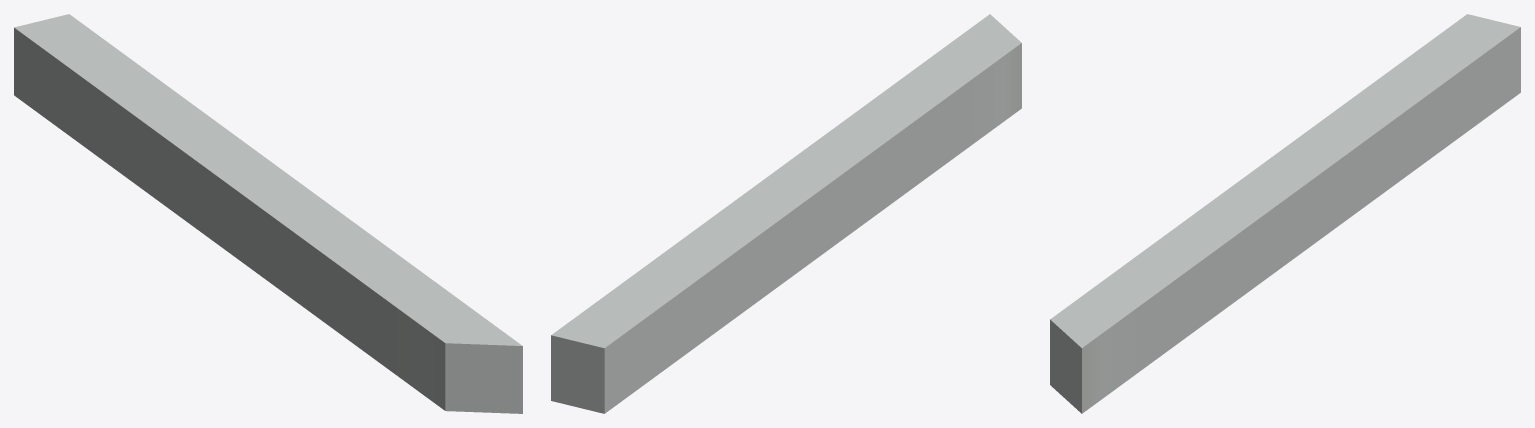
The model's file is field_6.fbx.
3 renders of one model, left to right at view 1: azimuth 30°, elevation 25°; view 2: azimuth 150°, elevation 25°; view 3: azimuth 330°, elevation 25°, orthographic. The views are drawn at different scales.
Visible parts, largest first — view 1: Field_block_01; view 2: Field_block_01; view 3: Field_block_01.
Boxes of the visible parts, bbox=[...] form: Field_block_01: bbox=[14, 14, 522, 413]; Field_block_01: bbox=[551, 14, 1021, 413]; Field_block_01: bbox=[1050, 14, 1520, 413].
Bounding box in the file's own units: 0.5941 × 0.6974 × 8.45.
1 material, 1 textured.
